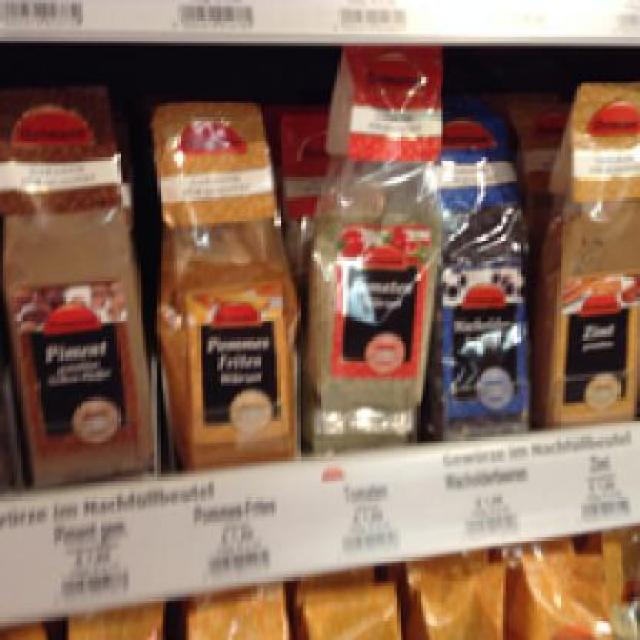Spices: (2, 82, 155, 478), (146, 94, 303, 463), (300, 46, 446, 440), (534, 77, 637, 423), (432, 109, 532, 428)
